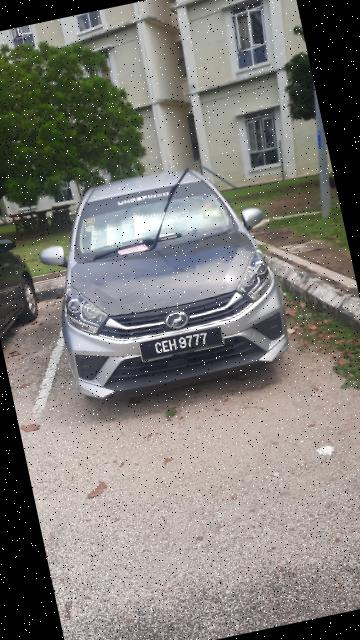License_Plate: (138, 323, 228, 365)
car: (23, 149, 303, 416)
